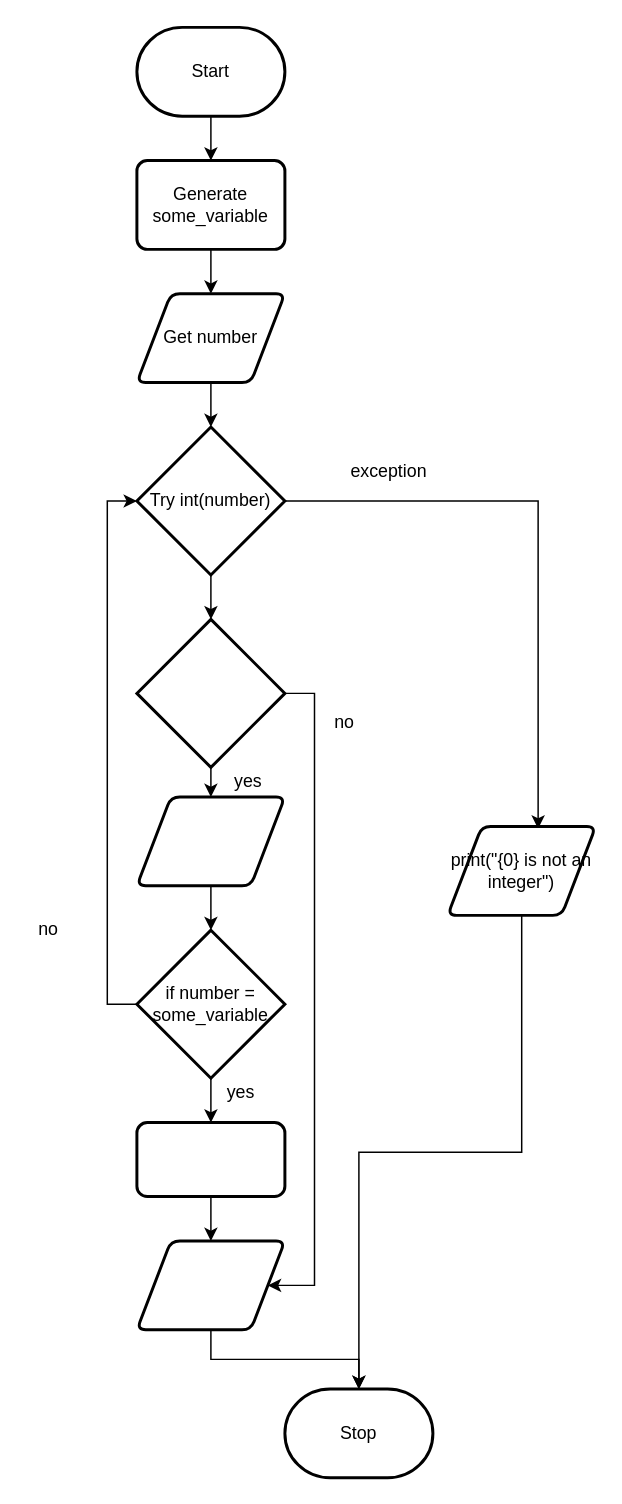
The diagram is 622 pixels wide and 1504 high, and some of its shapes have lost their labels. Here are the shapes that lost their labels. From the top down, the centre of each, then its label:
the point at 210,692: for number =/ some_variable
the point at 210,841: print("{0} is incorrect.")
the point at 210,1158: break
the point at 210,1285: print("Correct")
